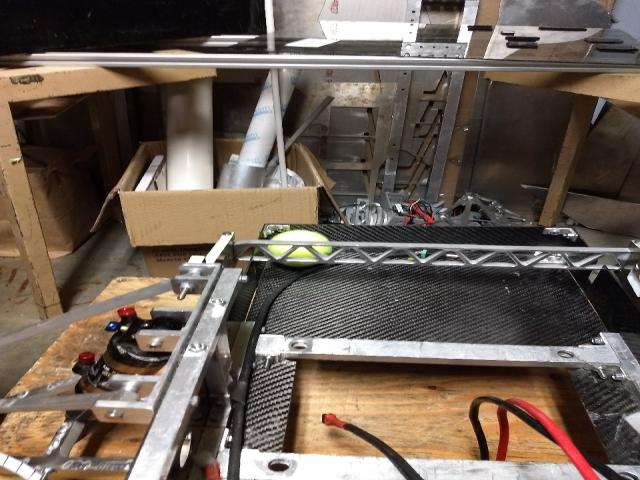tennis-ball: (267, 229, 334, 267)
